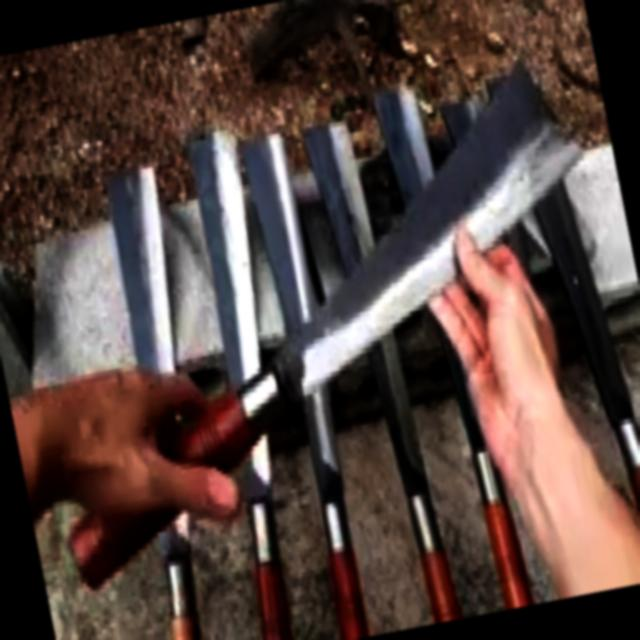eto: (67, 52, 589, 592)
